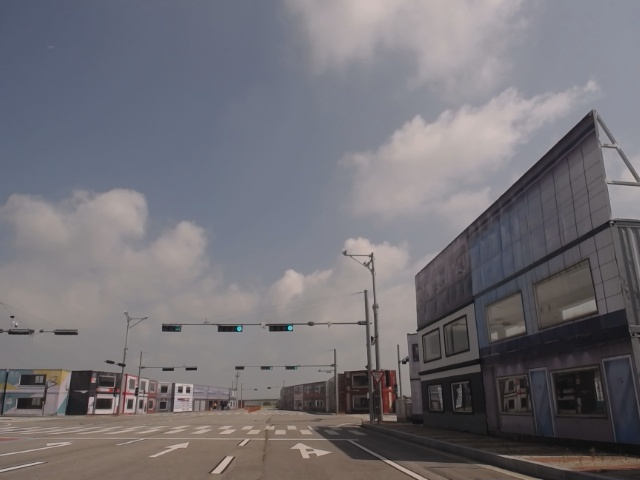straight_green_4: (216, 325, 245, 333), (269, 323, 293, 331)
